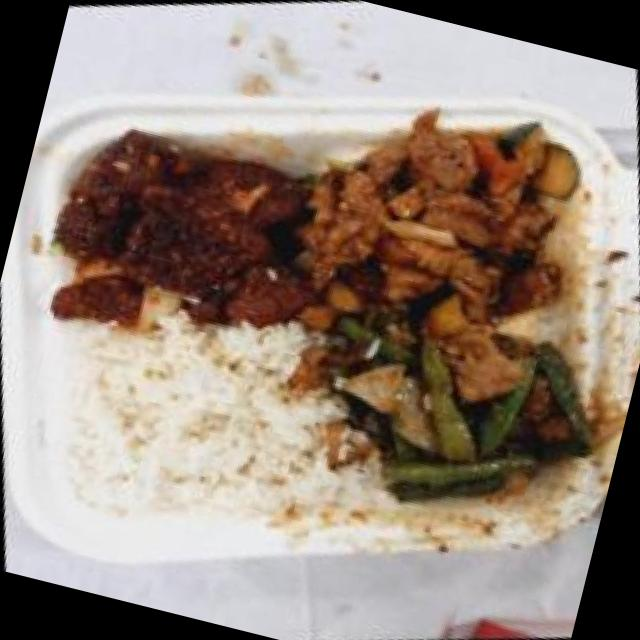Beijing Beef: (4, 71, 347, 384)
Kung Pao Chicken: (245, 45, 639, 403)
String Bean Chicken Breast: (285, 264, 618, 560)
White Steamed Rice: (21, 266, 378, 587)
